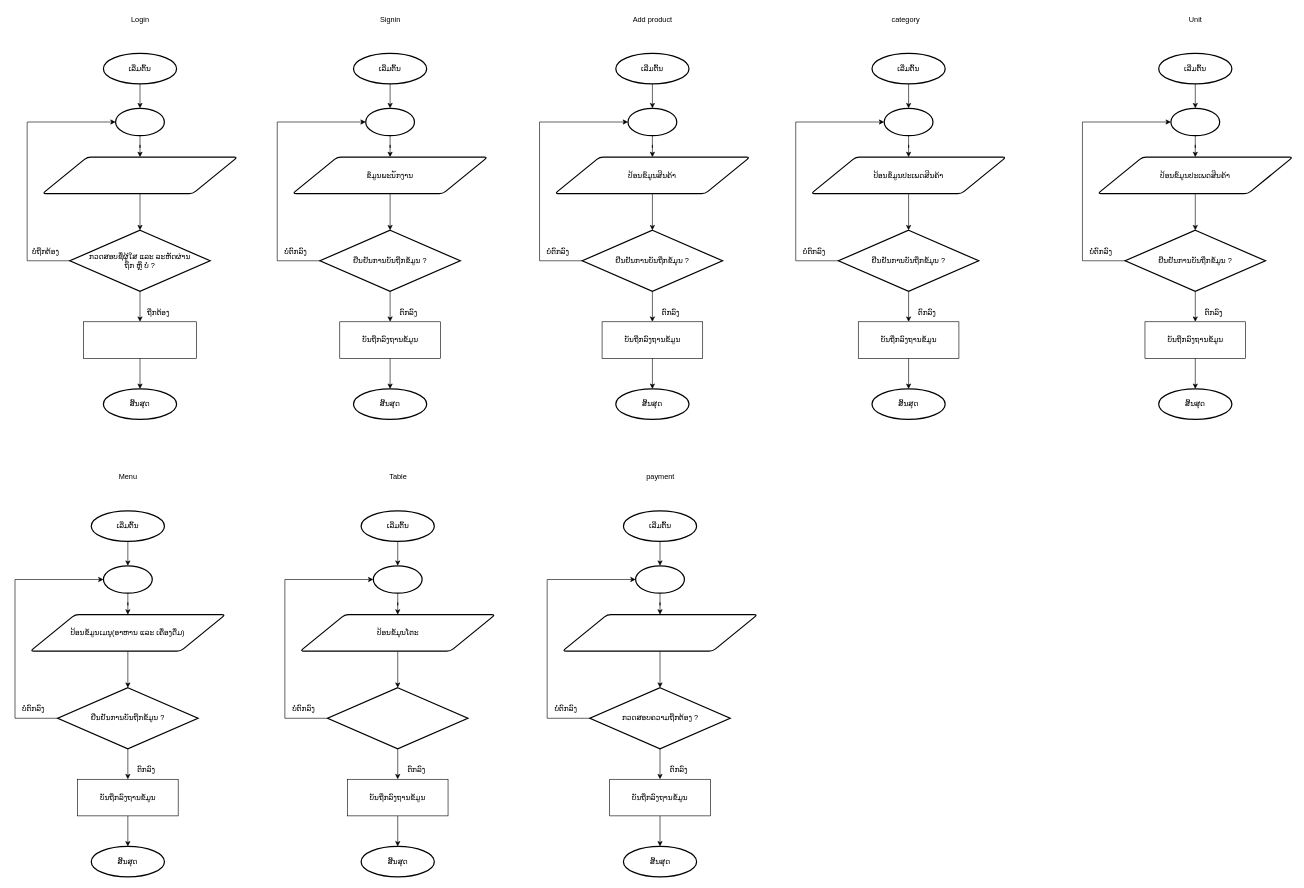
Some shapes in this 1304 by 888 pixel diagram are drawn without their labels. Here are the shapes that lost their labels. From the top down, the box of each, then its label:
(41, 156, 238, 194): ປ້ອນຊື່ ແລະ ລະຫັດຜ່ານ
(83, 321, 196, 358): ເຂົ້າສູ່ລະບົບ
(562, 614, 758, 651): ຂໍ້ມູນຊໍາລະເງີນ
(327, 687, 468, 749): ກວດສອບຂໍ້ມູນຖືກຕ້ອງບໍ່ ?
